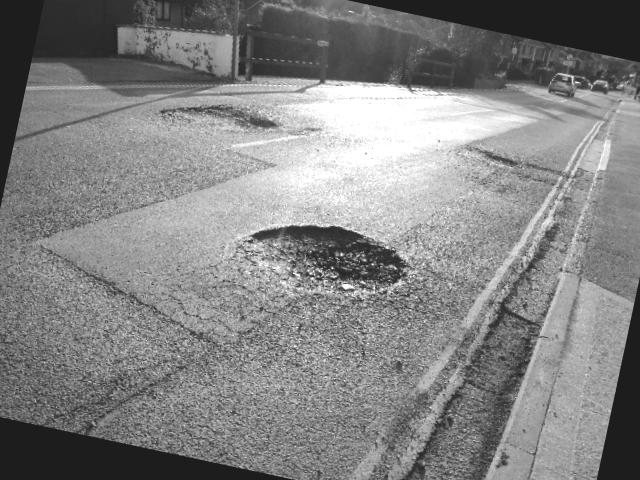Pothole: (227, 201, 421, 318), (158, 86, 302, 154), (454, 132, 575, 204)
